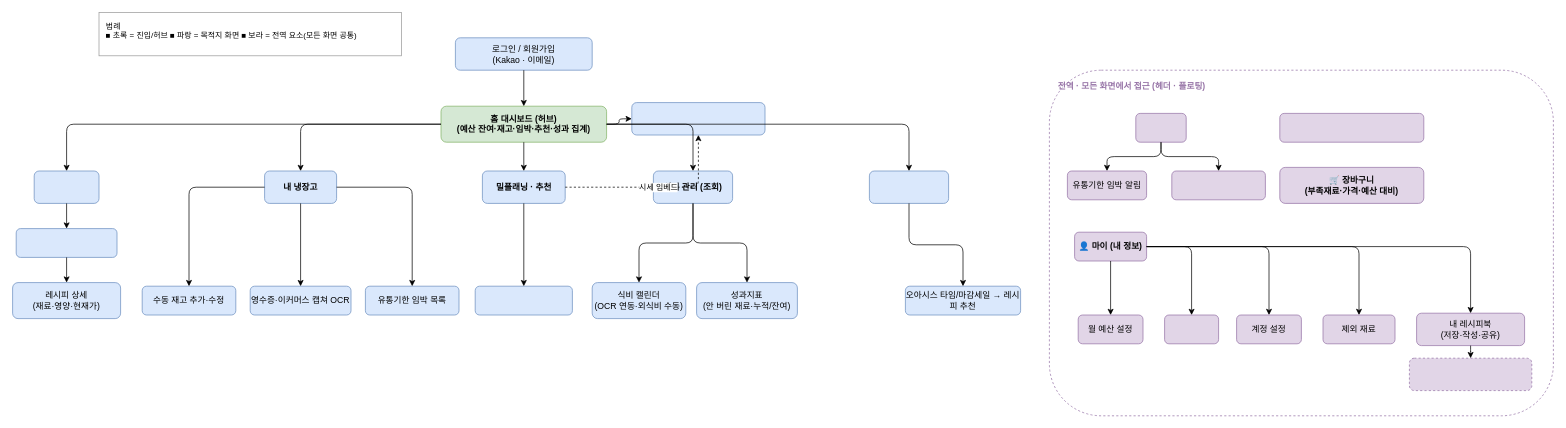
Image size: 1566x428. Some labels were removed from this diagram. Each missing label, with the centre of its shape:
"레시피" goes at pixel 66 186.
"레시피 탐색·검색" goes at pixel 66 242.
"시세 추천 (지금 싼 재료) — 홈·장바구니·밀플랜 임베드" goes at pixel 698 118.
"알림 설정" goes at pixel 1191 329.
"최저가 알림 (이상탐지)" goes at pixel 1218 185.
"추천 (뭐 해먹지·뭐 사지)" goes at pixel 523 300.
"핫딜" goes at pixel 909 186.
"＋ YouTube URL로 추출 (레시피북에 추가)" goes at pixel 1470 374.
"💬 대화형 어시스턴트 (챗봇)" goes at pixel 1351 127.
"🔔 알림" goes at pixel 1160 127.
